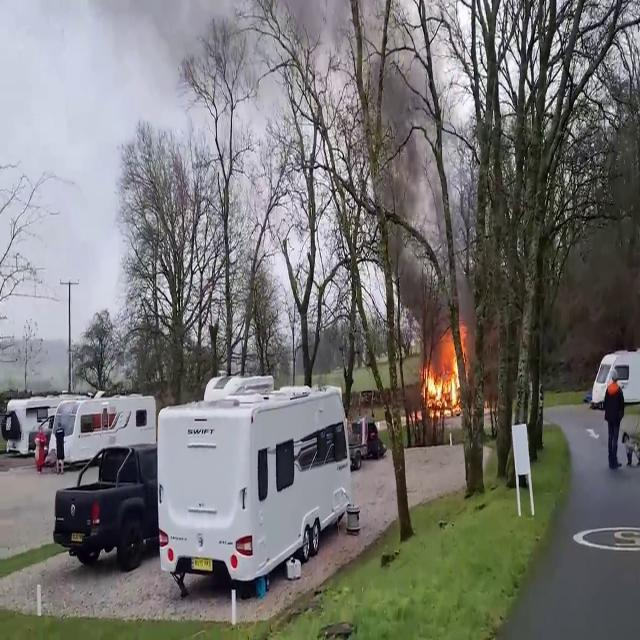Fire: (419, 324, 469, 416)
Smoke: (344, 41, 442, 319)
